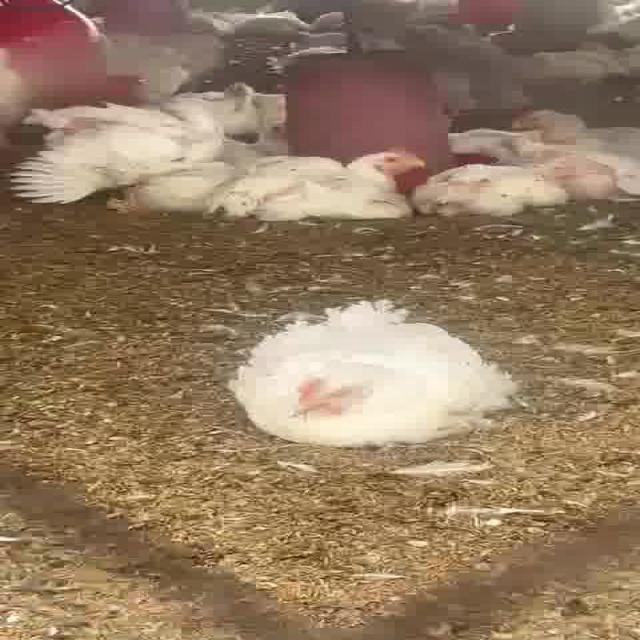AbNormal: (236, 310, 502, 442), (211, 148, 426, 224), (432, 162, 574, 212)
